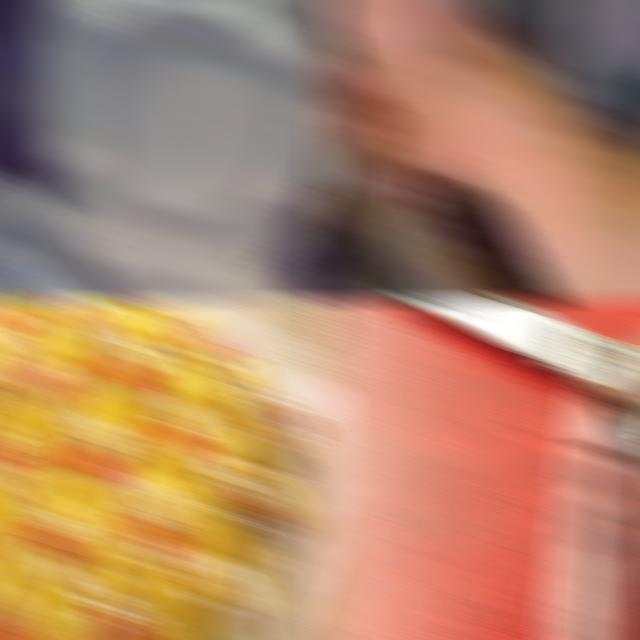Knife_Handle: (0, 134, 342, 303), (322, 0, 497, 303)
